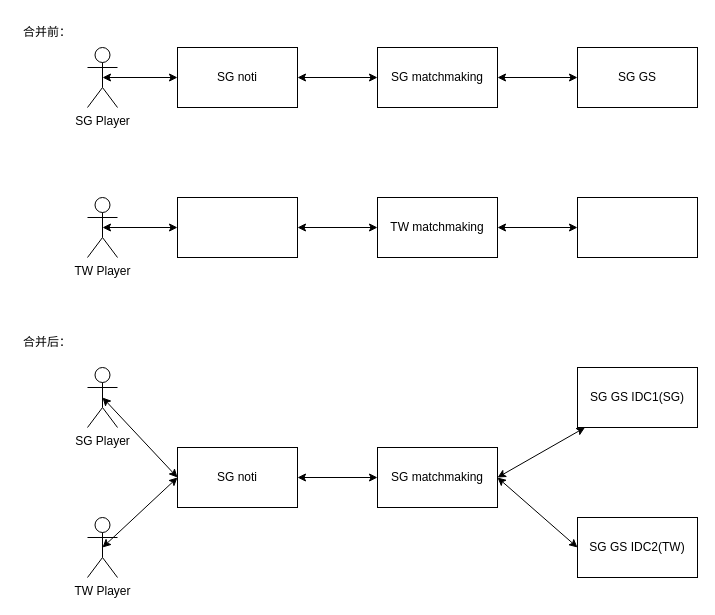
Some shapes in this 715 by 615 pixel diagram are drawn without their labels. The centre of each missing label's shape, as x and y in pixels:
TW GS: the point at 637,227
TW noti: the point at 237,227
